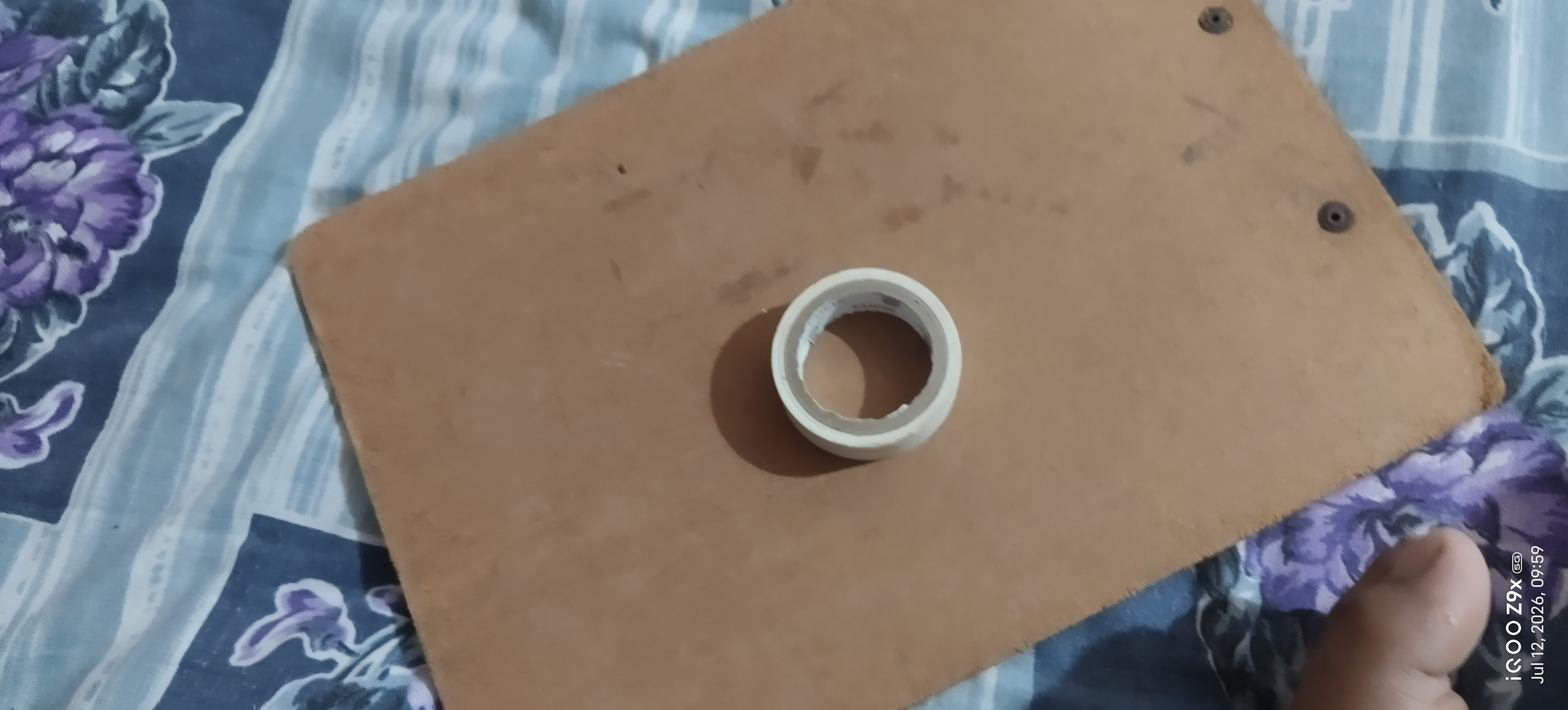tape_roll: (756, 256, 981, 471)
